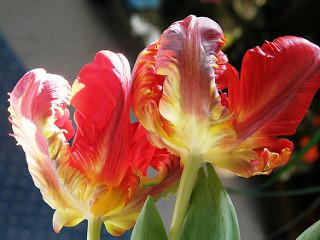tulip: (132, 11, 320, 179), (7, 51, 181, 226)
